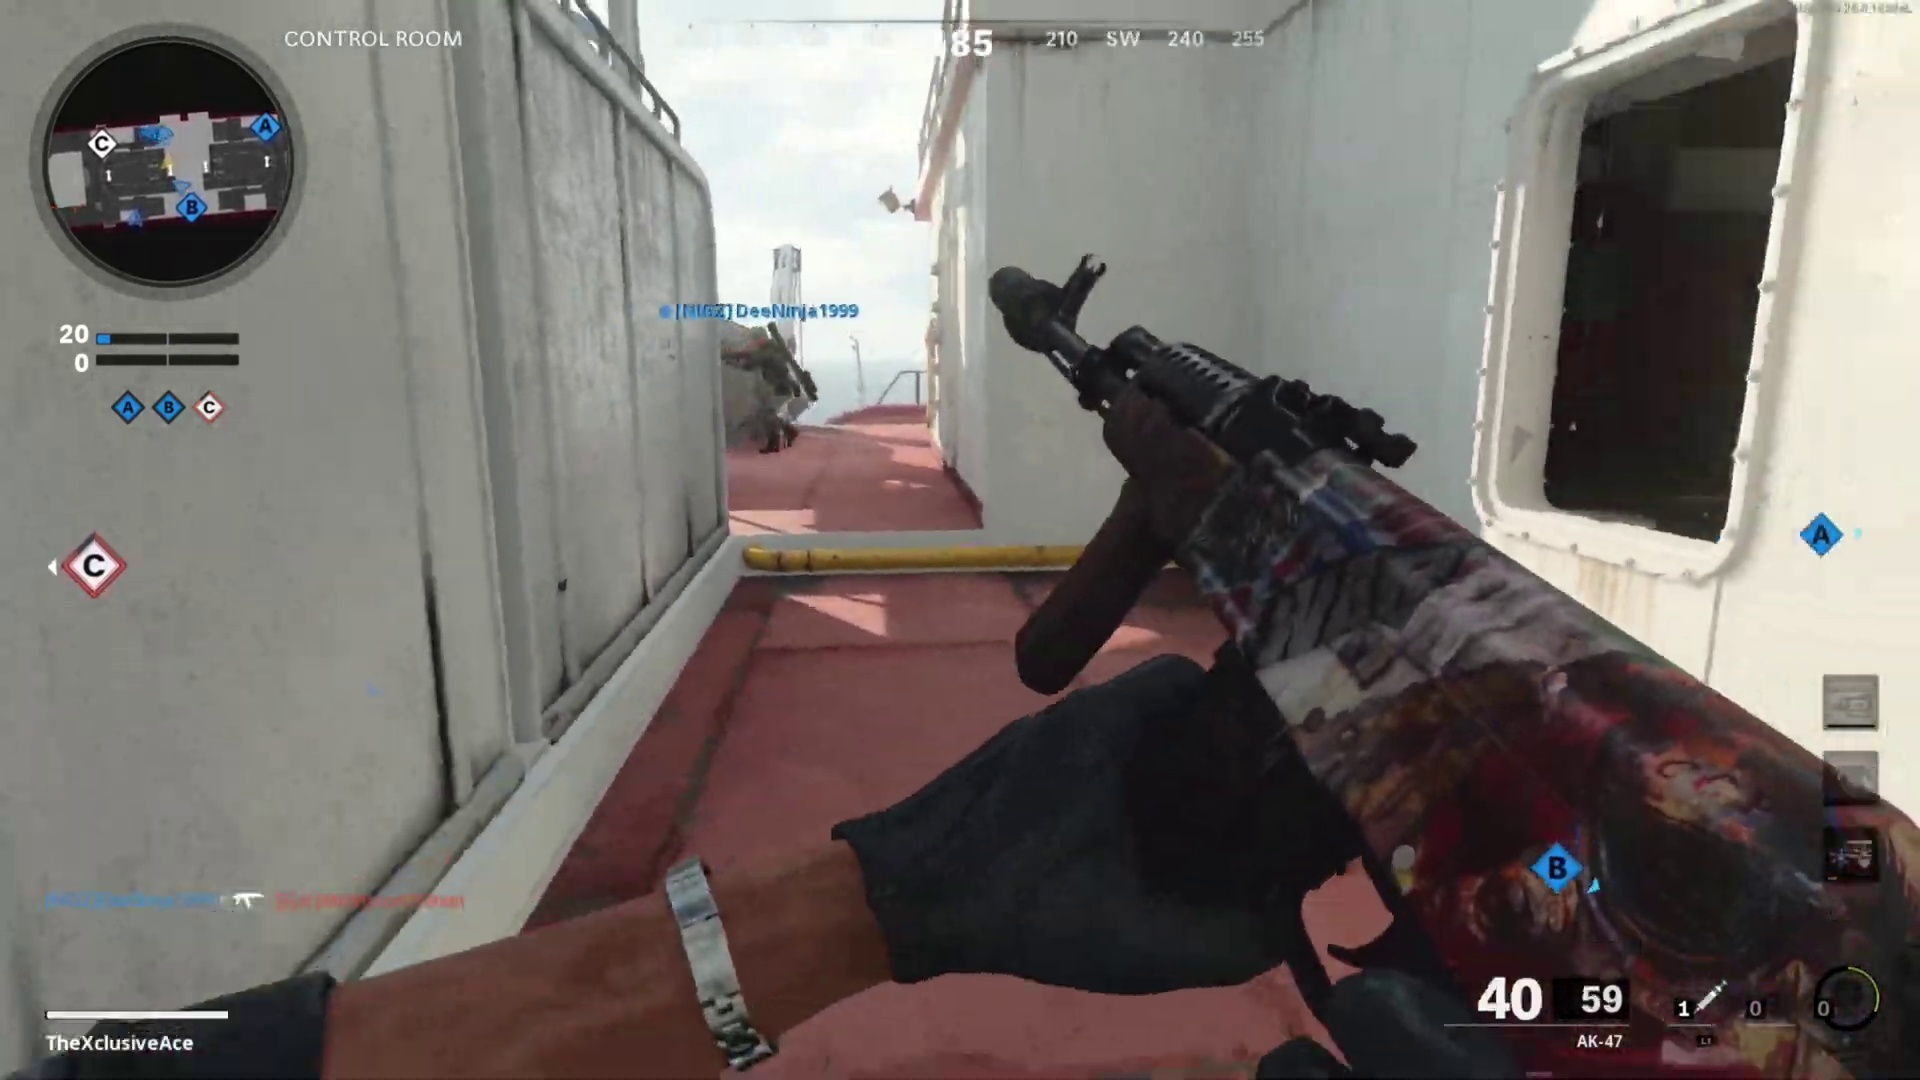head: (740, 324, 771, 356)
person: (726, 328, 817, 448)
